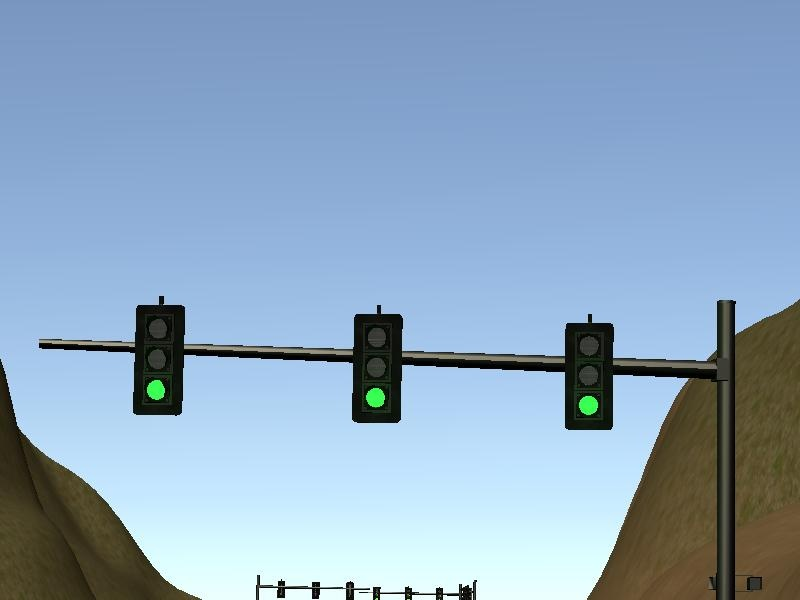green: (134, 304, 184, 415), (566, 322, 616, 431), (354, 314, 403, 422)
